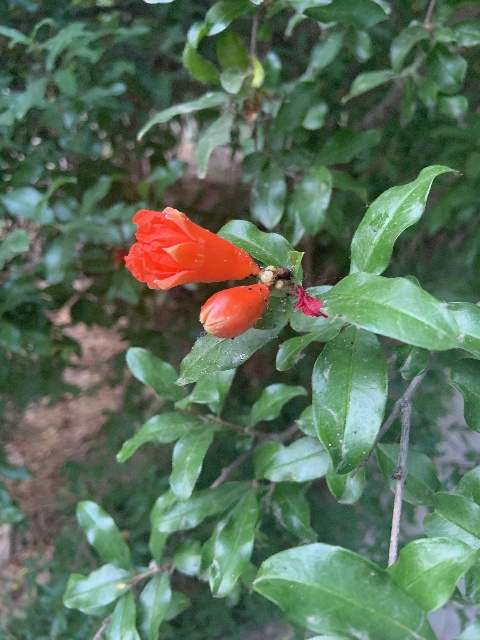bud: (200, 283, 269, 339)
flower: (123, 206, 259, 294)
